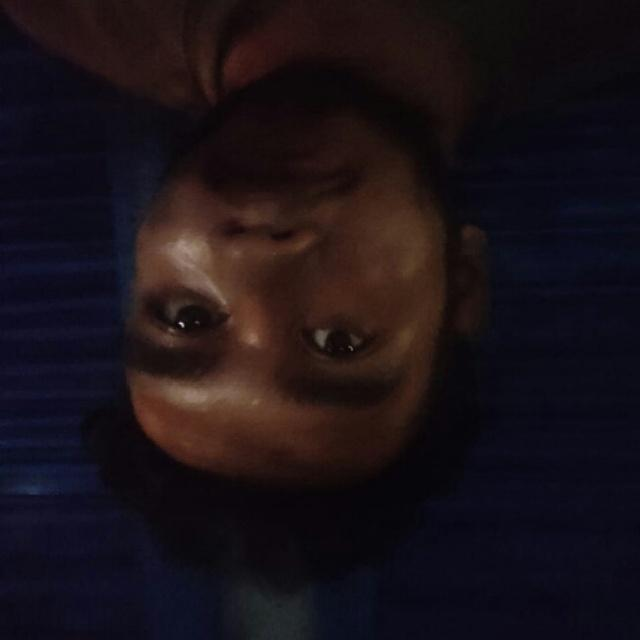Sad: (90, 70, 526, 594)
